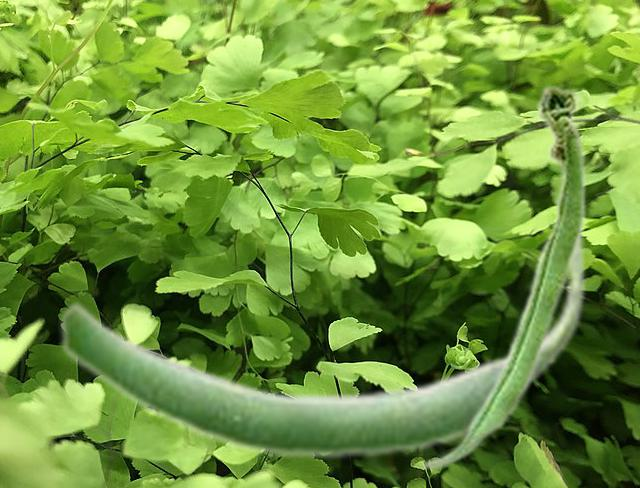french_bean: (58, 224, 587, 461), (420, 82, 586, 470)
